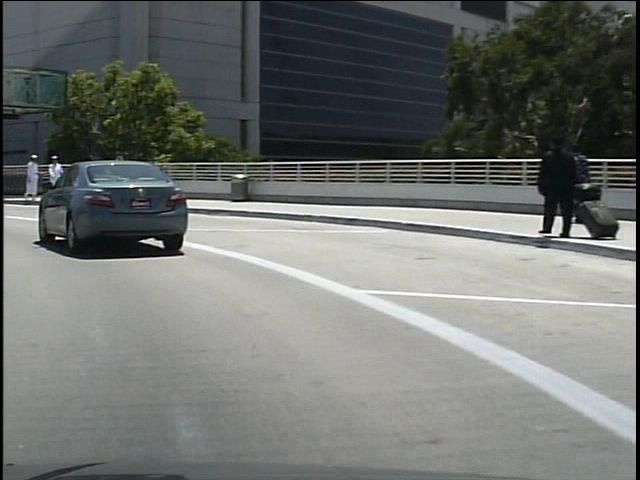person: (528, 137, 573, 239), (561, 142, 594, 232), (20, 150, 39, 204), (43, 152, 62, 184)
